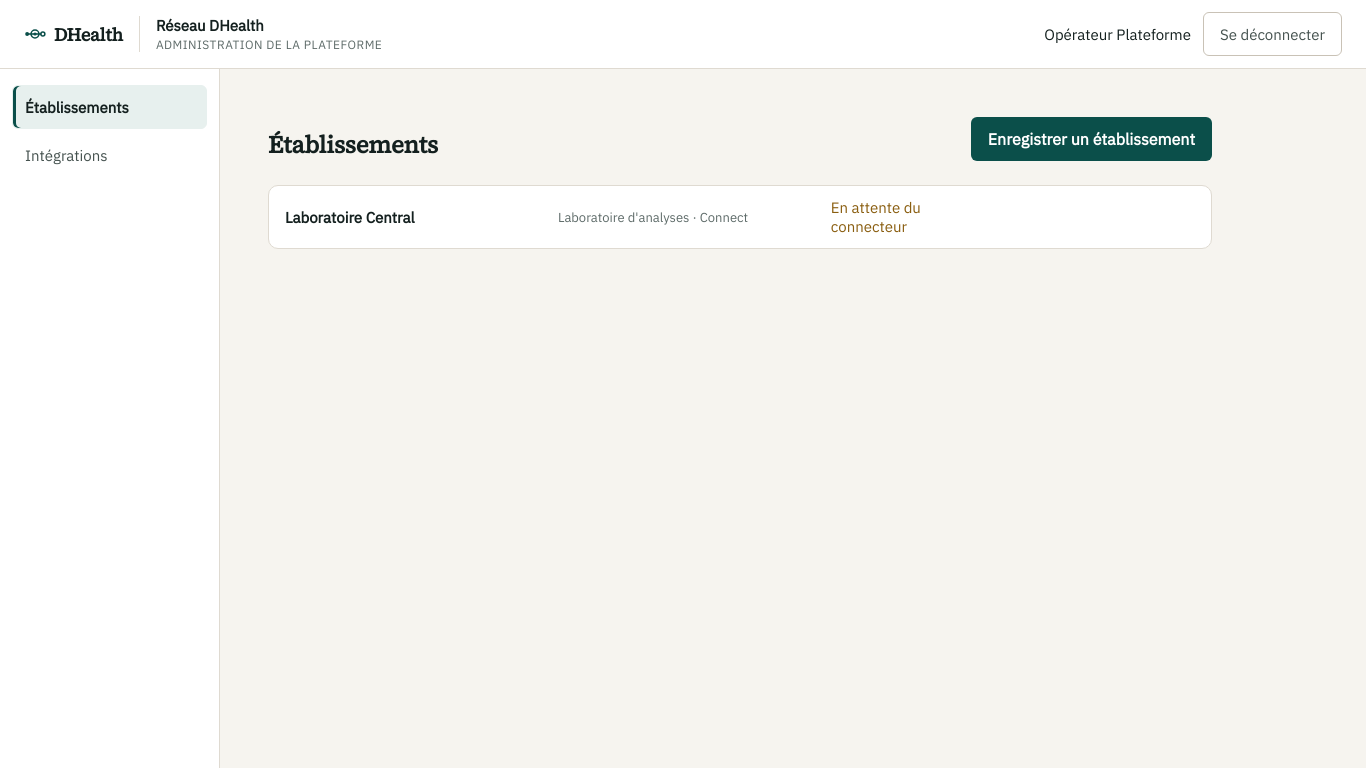
the connect facility, told truthfully › PS7: a verified interface still does not make a connector exist
This screenshot has width=1366, height=768.
Click the button "Laboratoire Central": (740, 217) x1=268 y1=185 x2=1212 y2=249
(page scrolled)
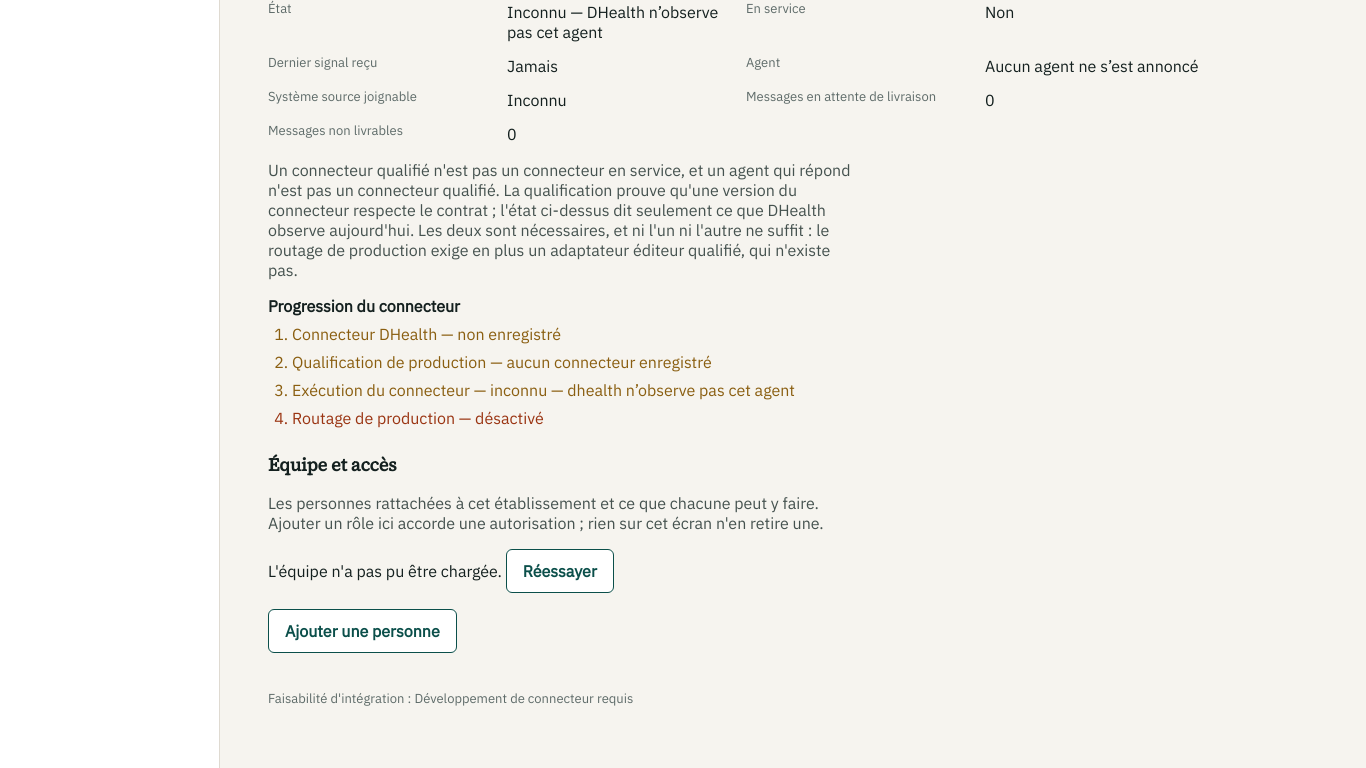
Expected: the list item "Connecteur DHealth — non enregistré" is shown, x1=292 y1=324 x2=561 y2=344
Expected: the list item "Qualification de production — aucun connecteur enregistré" is shown, x1=292 y1=352 x2=712 y2=372
Expected: the list item "Exécution du connecteur — inconnu" is shown, x1=292 y1=380 x2=795 y2=400
